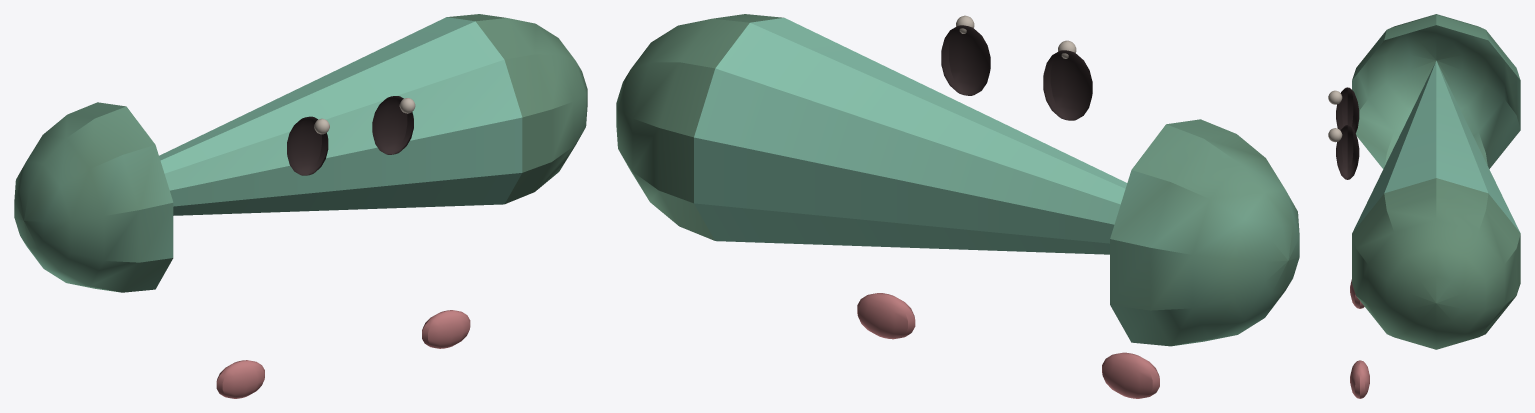
3 views of the same model, side by side, from view 1: azimuth 30°, elevation 25°; view 2: azimuth 150°, elevation 25°; view 3: azimuth 270°, elevation 25° (orthographic). The views are drawn at different scales.
Visible parts, largest first — view 1: pet_p8d79a322; view 2: pet_p8d79a322; view 3: pet_p8d79a322.
Boxes of the visible parts, left/top/right/bottom form: pet_p8d79a322: left=14, top=14, right=587, bottom=398; pet_p8d79a322: left=616, top=14, right=1299, bottom=398; pet_p8d79a322: left=1328, top=14, right=1520, bottom=398.
Bounding box in the file's own units: 0.648 × 0.3102 × 0.217.
